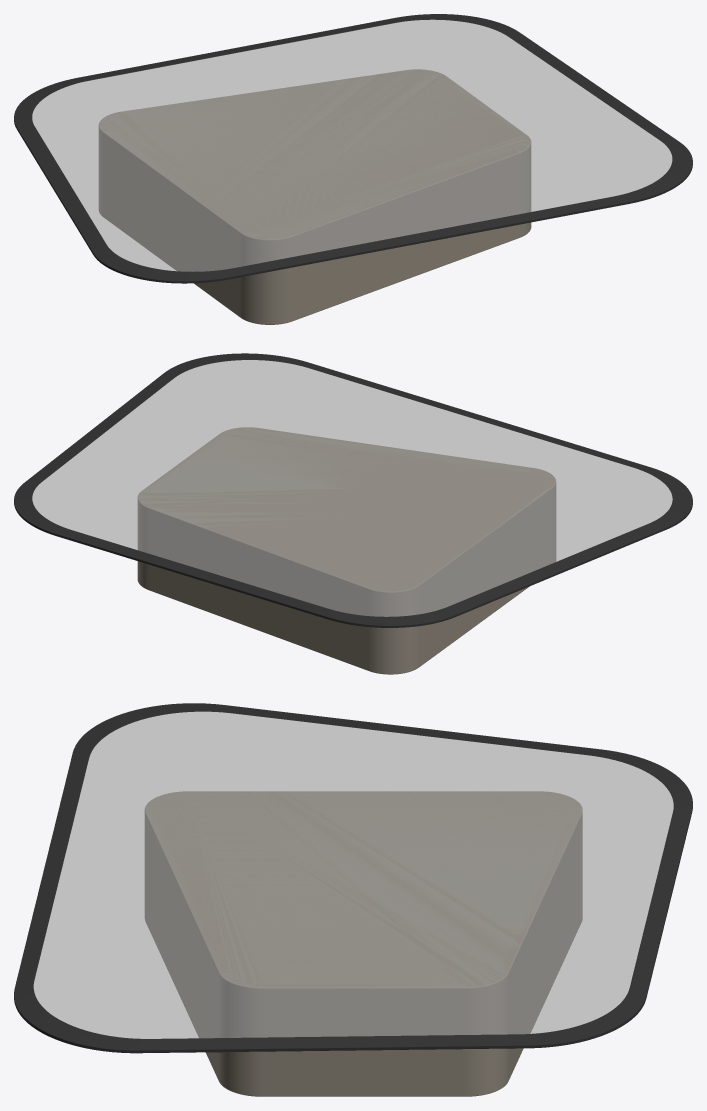
File: Molteni_Mayfair_Table_V2_mat(2).fbx
3 renders of one model, top to bottom at view 1: azimuth 30°, elevation 25°; view 2: azimuth 150°, elevation 25°; view 3: azimuth 270°, elevation 25°, orthographic. The views are drawn at different scales.
Visible parts, largest first — view 1: Molteni_Mayfair_Table_V2_mat2; view 2: Molteni_Mayfair_Table_V2_mat2; view 3: Molteni_Mayfair_Table_V2_mat2.
Boxes of the visible parts, <box> form: Molteni_Mayfair_Table_V2_mat2: <box>14,14,692,324</box>; Molteni_Mayfair_Table_V2_mat2: <box>14,353,692,674</box>; Molteni_Mayfair_Table_V2_mat2: <box>14,703,692,1096</box>.
Bounding box in the file's own units: 150 × 124 × 25.
